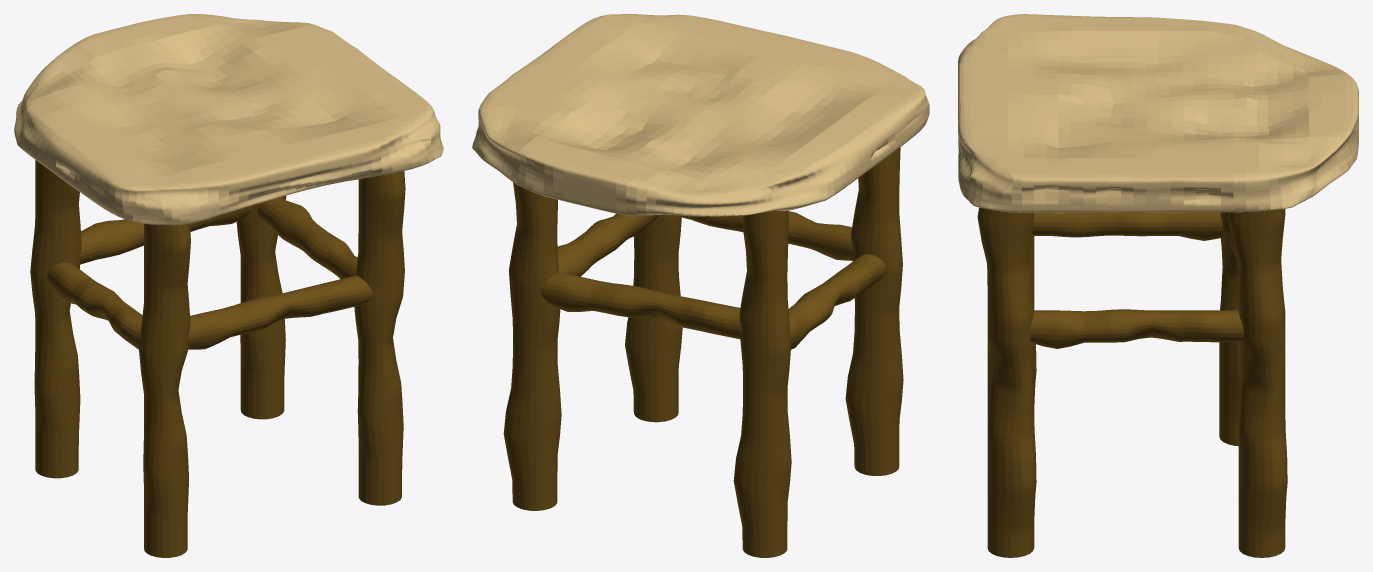
Rendered from prop_chair.fbx.
3 renders of one model, left to right at view 1: azimuth 30°, elevation 25°; view 2: azimuth 150°, elevation 25°; view 3: azimuth 270°, elevation 25°, orthographic. The views are drawn at different scales.
Parts seen in each view (by area): view 1: chair_seat_LOD0, chair_leg3_LOD0, chair_leg2_LOd0, chair_leg4_LOD0, chair_leg1_LOD0, chair_leg_brace2_LOD, chair_leg_brace1_LOD0, chair_leg_brace3_LOD0, chair_leg_brace4_LOD0; view 2: chair_seat_LOD0, chair_leg4_LOD0, chair_leg1_LOD0, chair_leg3_LOD0, chair_leg2_LOd0, chair_leg_brace4_LOD0, chair_leg_brace3_LOD0, chair_leg_brace1_LOD0, chair_leg_brace2_LOD; view 3: chair_seat_LOD0, chair_leg1_LOD0, chair_leg2_LOd0, chair_leg_brace1_LOD0, chair_leg_brace3_LOD0, chair_leg4_LOD0, chair_leg3_LOD0.
Boxes of the visible parts, bbox=[...] form: chair_seat_LOD0: bbox=[14, 14, 443, 225]; chair_leg3_LOD0: bbox=[139, 223, 190, 557]; chair_leg2_LOd0: bbox=[354, 171, 405, 505]; chair_leg4_LOD0: bbox=[30, 160, 81, 478]; chair_leg1_LOD0: bbox=[236, 195, 286, 419]; chair_leg_brace2_LOD: bbox=[188, 275, 372, 349]; chair_leg_brace1_LOD0: bbox=[257, 197, 357, 278]; chair_leg_brace3_LOD0: bbox=[47, 262, 142, 349]; chair_leg_brace4_LOD0: bbox=[79, 206, 252, 264]; chair_seat_LOD0: bbox=[472, 14, 929, 216]; chair_leg4_LOD0: bbox=[733, 210, 791, 557]; chair_leg1_LOD0: bbox=[503, 182, 561, 510]; chair_leg3_LOD0: bbox=[845, 147, 903, 475]; chair_leg2_LOd0: bbox=[625, 214, 682, 422]; chair_leg_brace4_LOD0: bbox=[540, 272, 741, 338]; chair_leg_brace3_LOD0: bbox=[788, 254, 885, 349]; chair_leg_brace1_LOD0: bbox=[557, 213, 658, 276]; chair_leg_brace2_LOD: bbox=[674, 211, 852, 260]; chair_seat_LOD0: bbox=[958, 14, 1358, 213]; chair_leg1_LOD0: bbox=[1228, 209, 1287, 557]; chair_leg2_LOd0: bbox=[977, 207, 1036, 557]; chair_leg_brace1_LOD0: bbox=[1030, 309, 1243, 348]; chair_leg_brace3_LOD0: bbox=[1032, 212, 1222, 240]; chair_leg4_LOD0: bbox=[1219, 212, 1241, 445]; chair_leg3_LOD0: bbox=[987, 234, 1036, 426].
Size of what is drawn, in the model's own units: 50 by 55 by 50.
